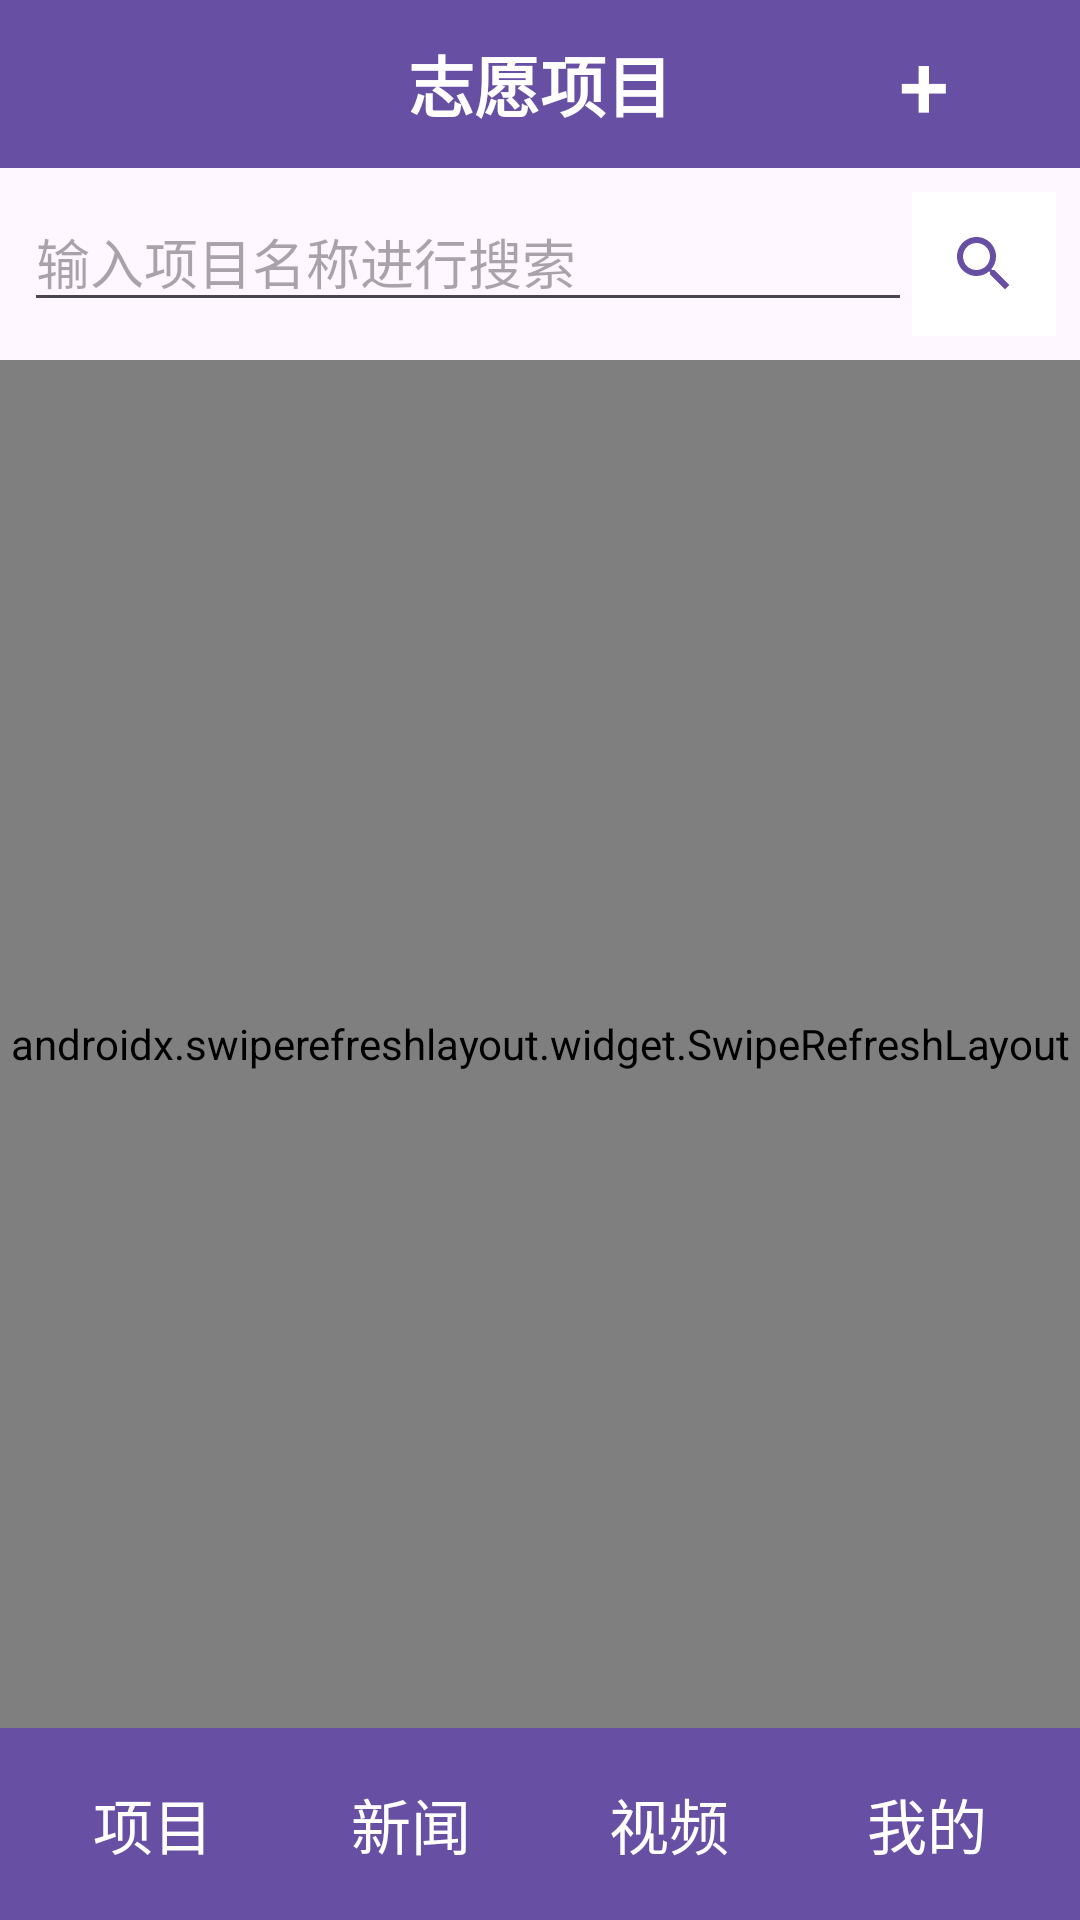

Icons on this 1080 × 1920 Android screen, each with the point to tap as point (x, y):
search: point (983, 263)
